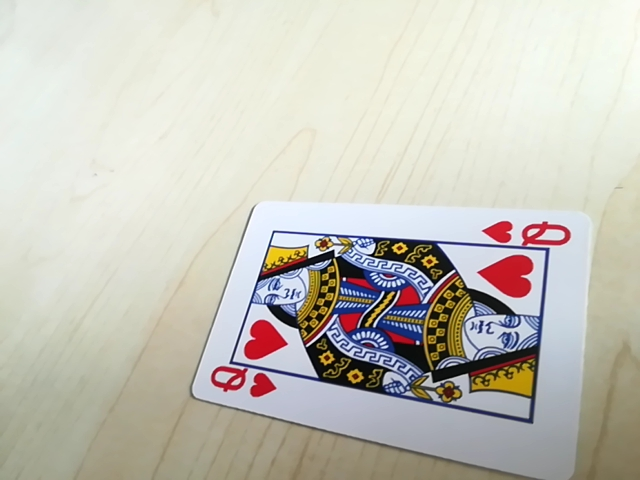hx q: (479, 217, 572, 250), (205, 363, 278, 401)
